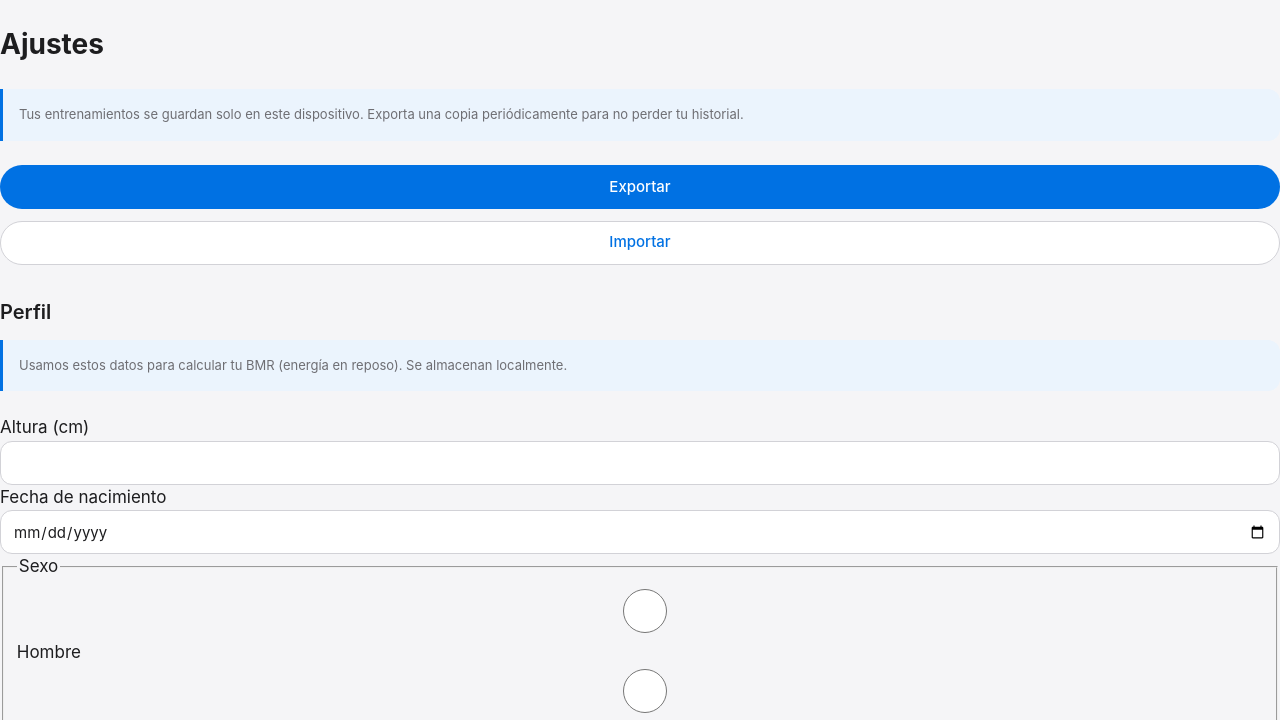
Scenario: <Settings /> profile section (F6-T009) › saves a valid profile via repo.setProfile and shows a success message
In the number field labelled "Altura (cm)": point(640, 463) 0,441 -> 1279,485, type "175"
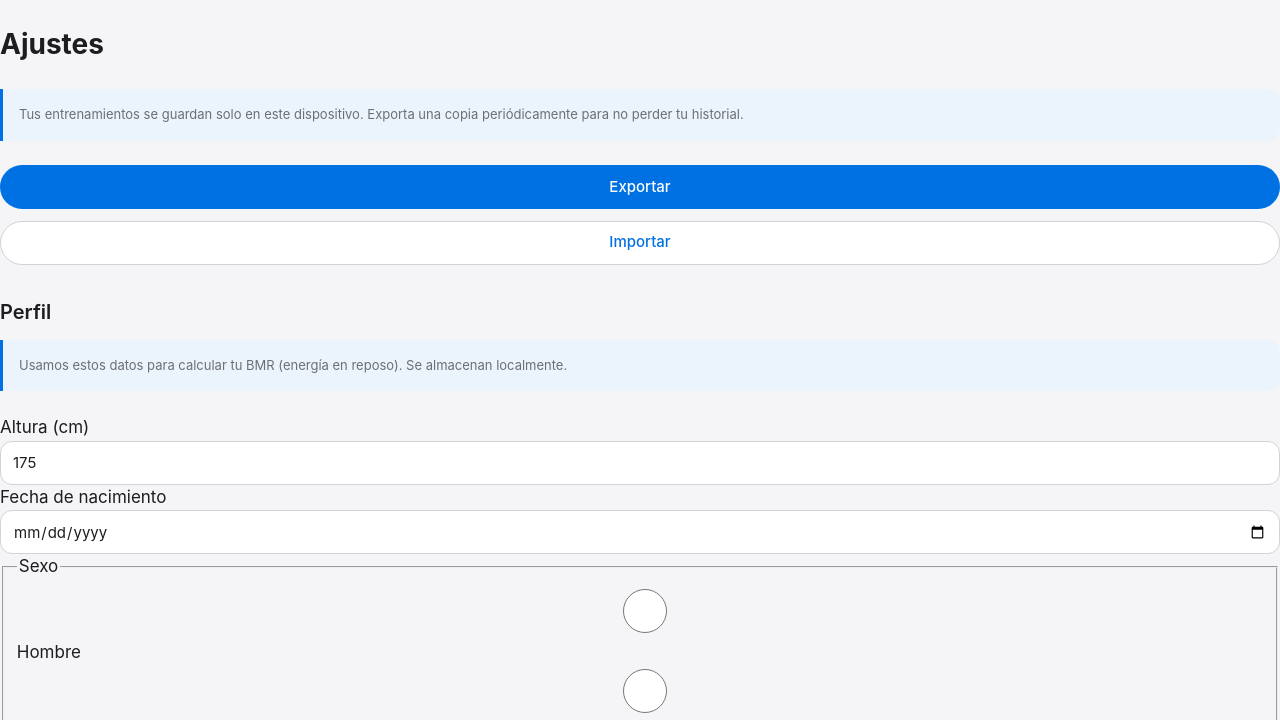
In the date field labelled "Fecha de nacimiento": point(640, 532) 0,510 -> 1279,554, type "1990-05-26"
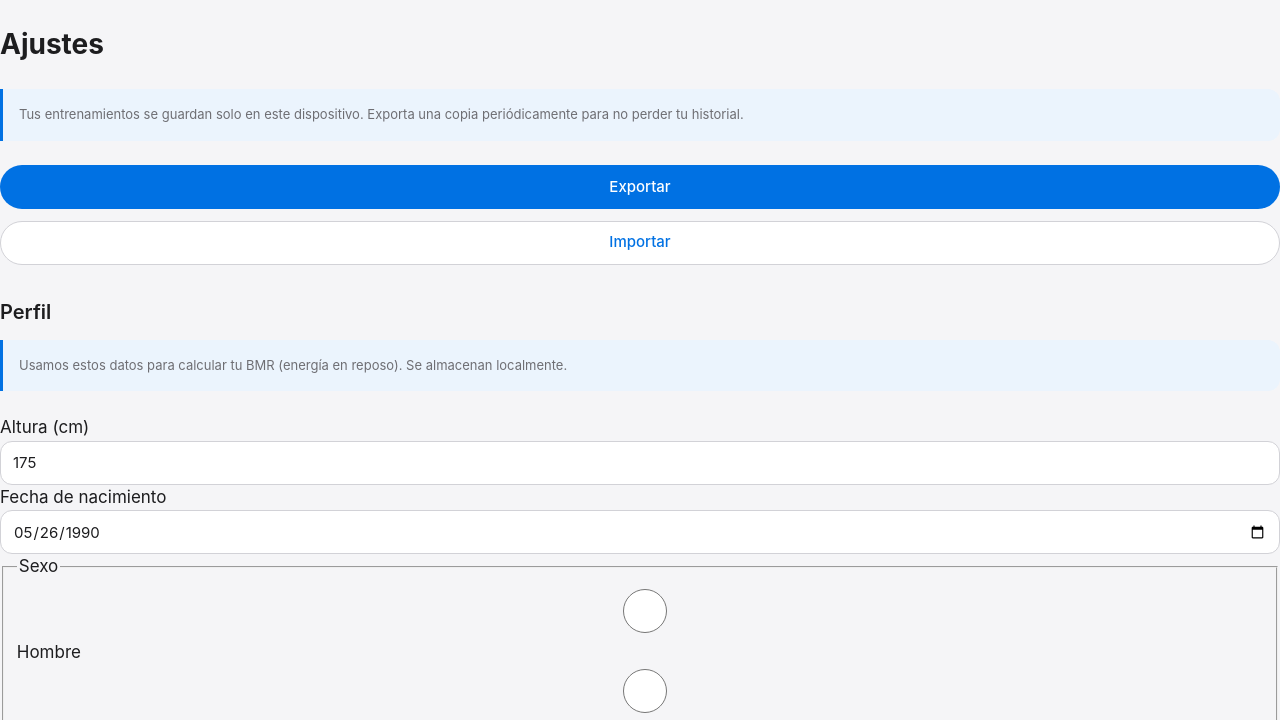
Click the radio button labelled "Hombre": point(645, 611) 22,589 -> 1268,633
(page scrolled)
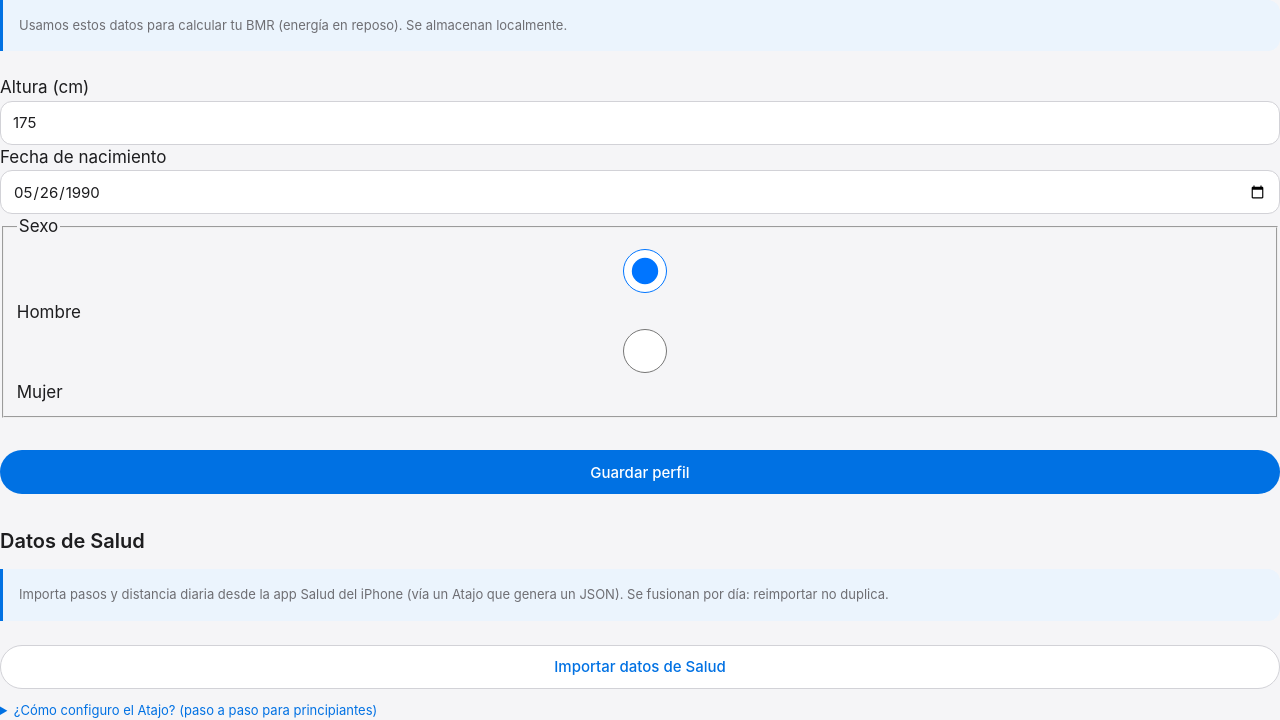
Click the button "Guardar perfil": point(640, 472) 0,450 -> 1279,494
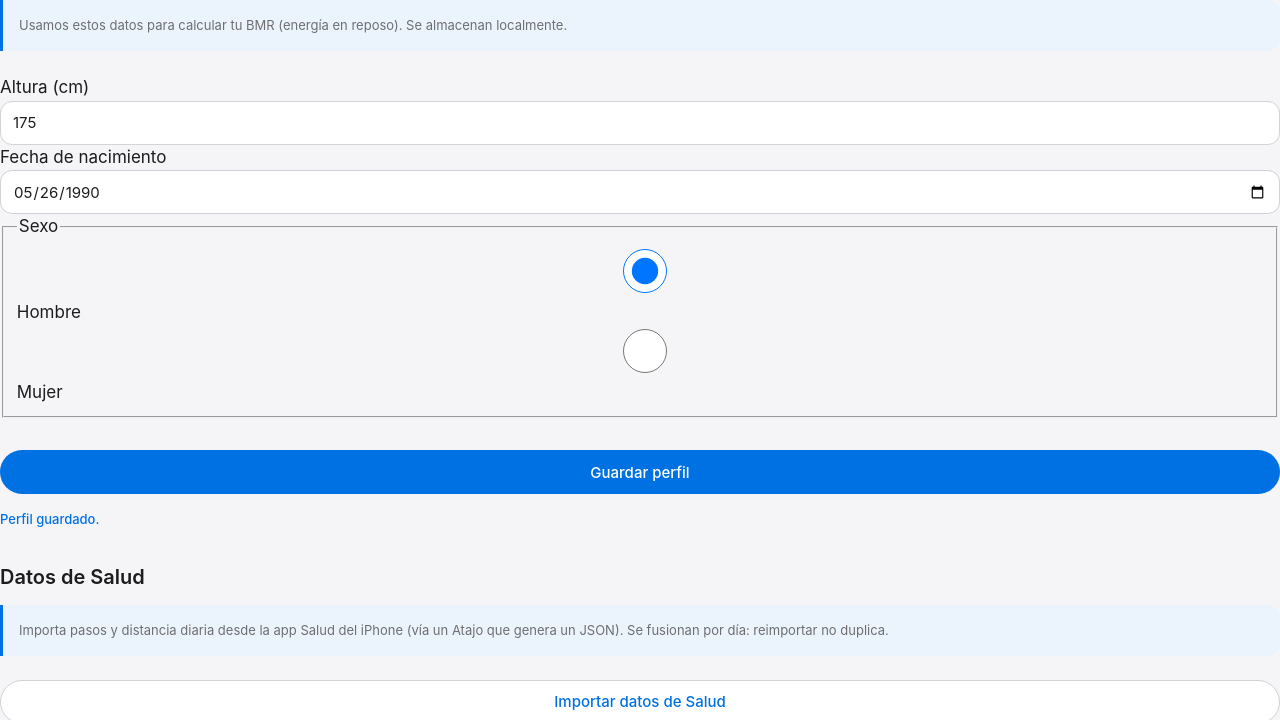
Result: the text "Perfil guardado." is shown at 0,511 -> 99,527
